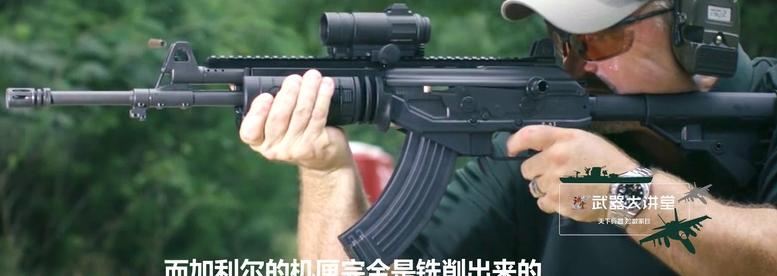gun: (1, 1, 777, 276)
